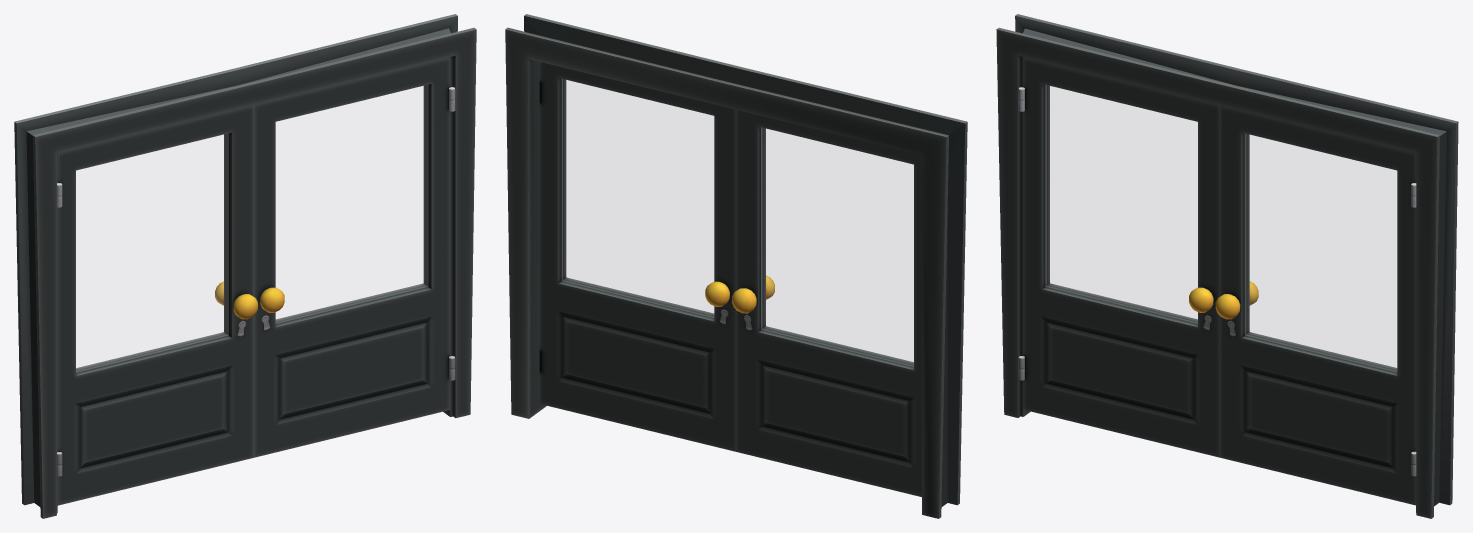
The model's file is PropDoor02TypeB.FBX.
3 views of the same model, side by side, from view 1: azimuth 30°, elevation 25°; view 2: azimuth 150°, elevation 25°; view 3: azimuth 330°, elevation 25° (orthographic).
Parts seen in each view (by area): view 1: Frame, DoorR, DoorL, GlassL, GlassR; view 2: Frame, DoorR, DoorL, GlassL, GlassR; view 3: Frame, DoorR, DoorL, GlassR, GlassL.
Part boxes in pixels (x1,y1,x2,y2): Frame: (14, 14, 476, 518); DoorR: (254, 57, 455, 457); DoorL: (57, 105, 257, 505); GlassL: (76, 134, 226, 370); GlassR: (276, 85, 426, 321); Frame: (505, 14, 967, 518); DoorR: (539, 62, 735, 451); DoorL: (732, 109, 921, 496); GlassL: (763, 128, 913, 364); GlassR: (563, 79, 713, 316); Frame: (996, 14, 1458, 518); DoorR: (1215, 105, 1416, 505); DoorL: (1018, 57, 1219, 457); GlassR: (1246, 134, 1396, 370); GlassL: (1047, 86, 1197, 321).
Size of what is drawn, in the model's own units: 3.15 by 2.61 by 0.3577.
